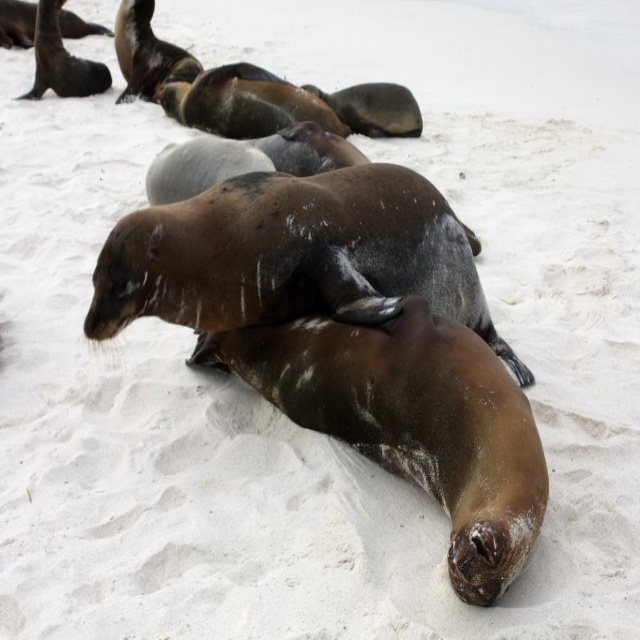Sea lion: (0, 0, 549, 605)
